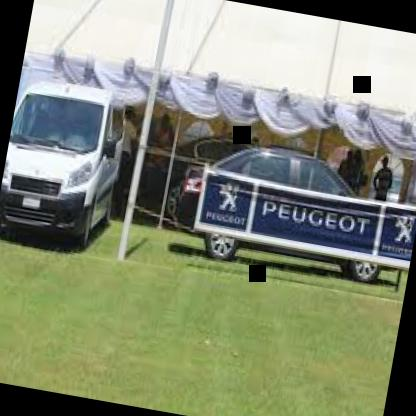car: (169, 120, 406, 315), (0, 54, 146, 276)
